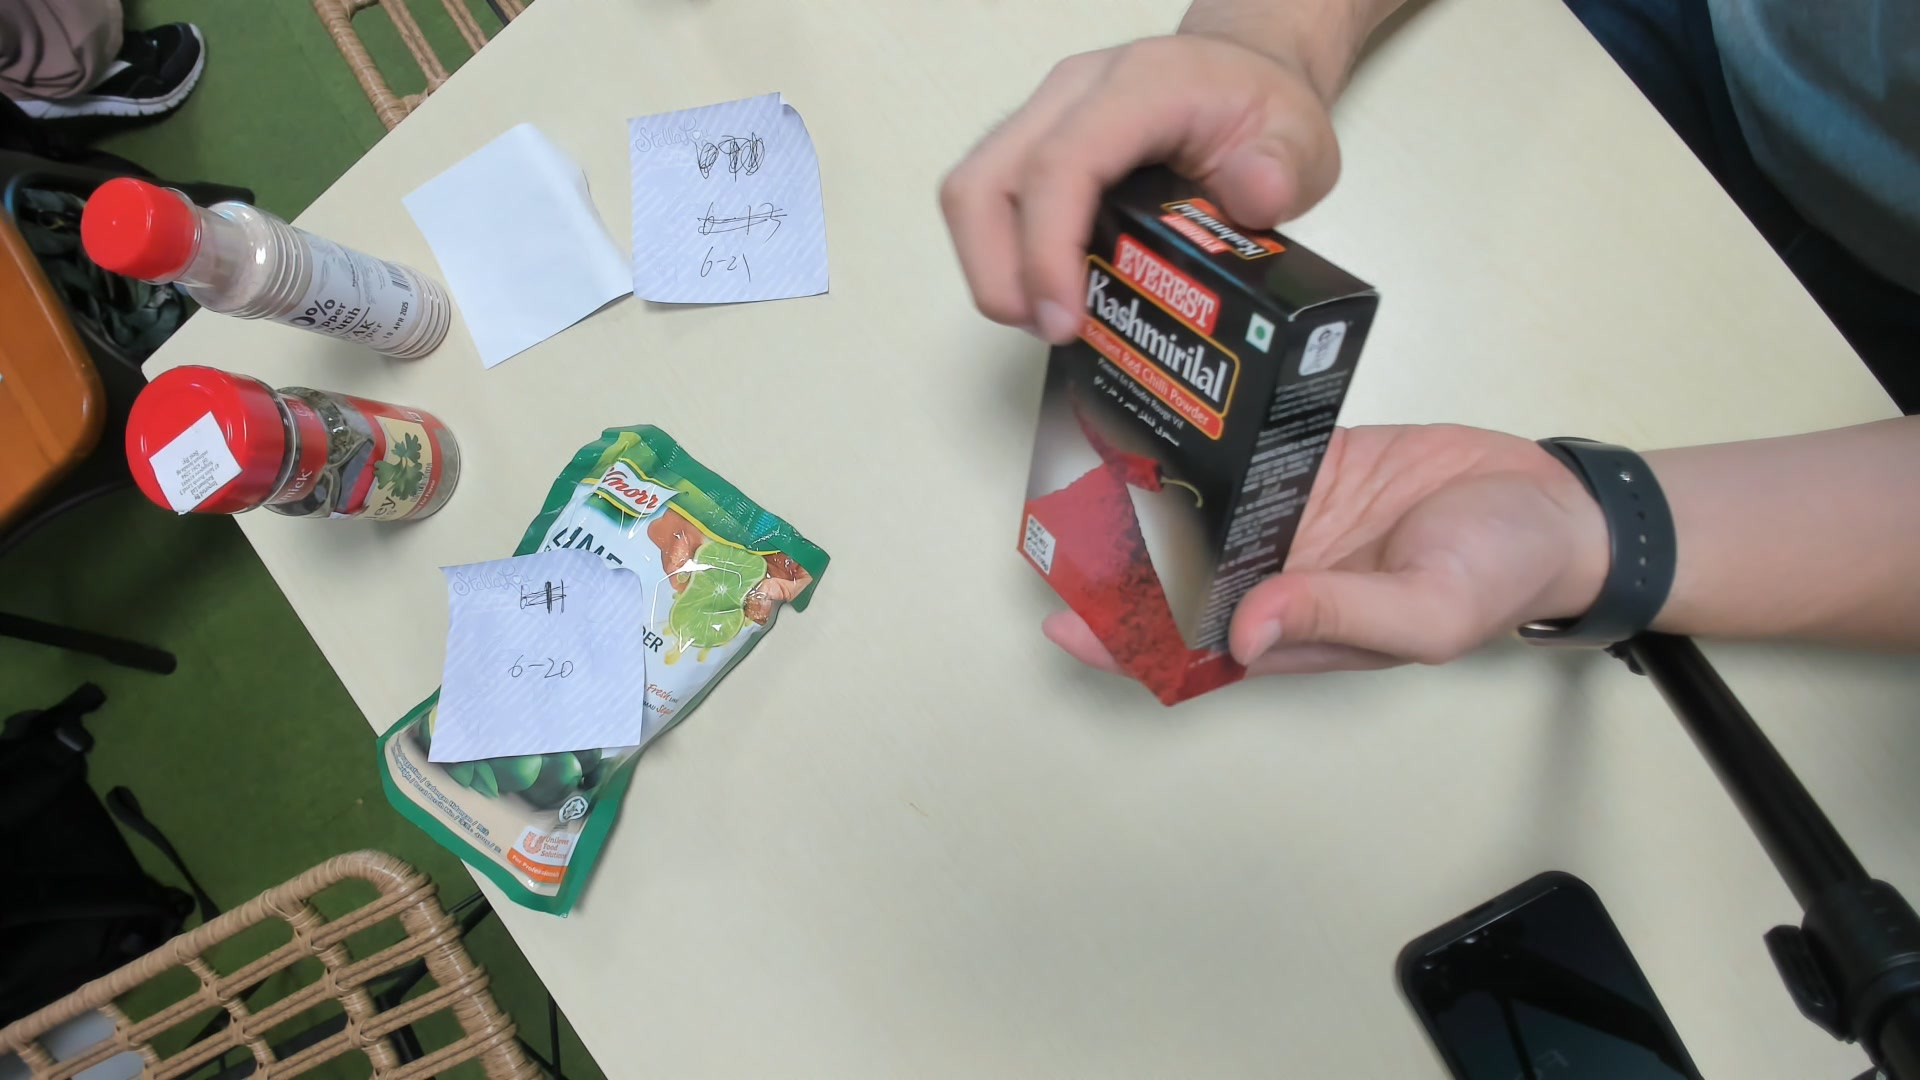HerbsSpicesPepper_100-199g_NonHalal_NonHealthy: (1015, 164, 1377, 705)
